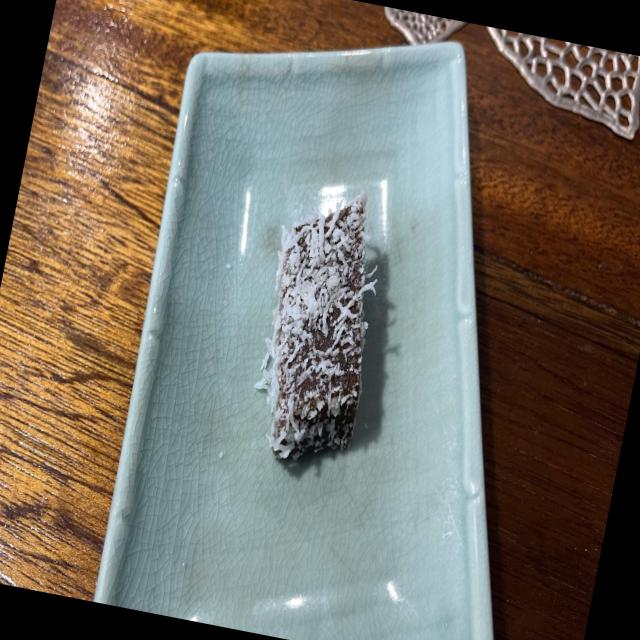kaswi: (256, 193, 376, 459)
